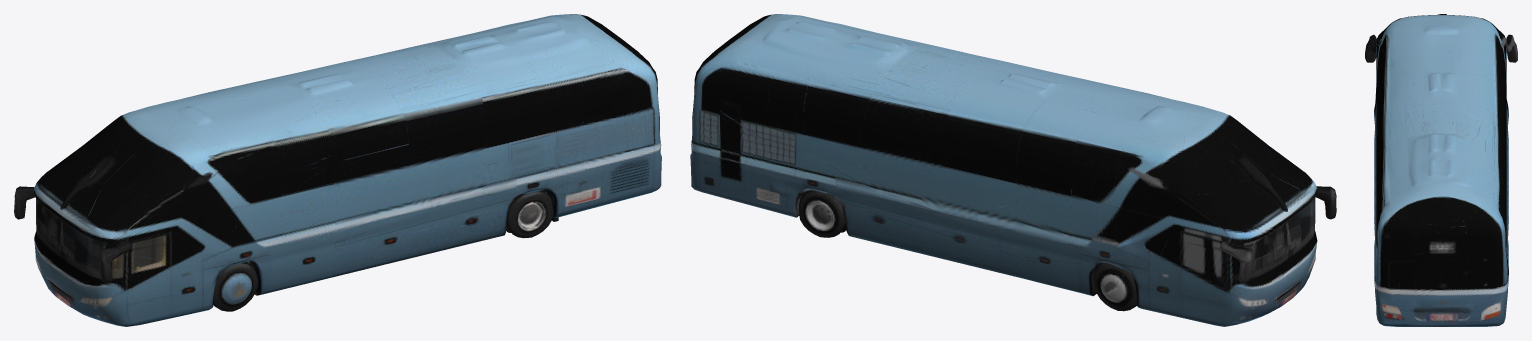
File: bus_azure.glb
3 renders of one model, left to right at view 1: azimuth 30°, elevation 25°; view 2: azimuth 150°, elevation 25°; view 3: azimuth 270°, elevation 25°, orthographic. The views are drawn at different scales.
Bounding box in the file's own units: 1.91 × 0.544 × 0.5362.
Materials: 1 (1 with a texture image).
